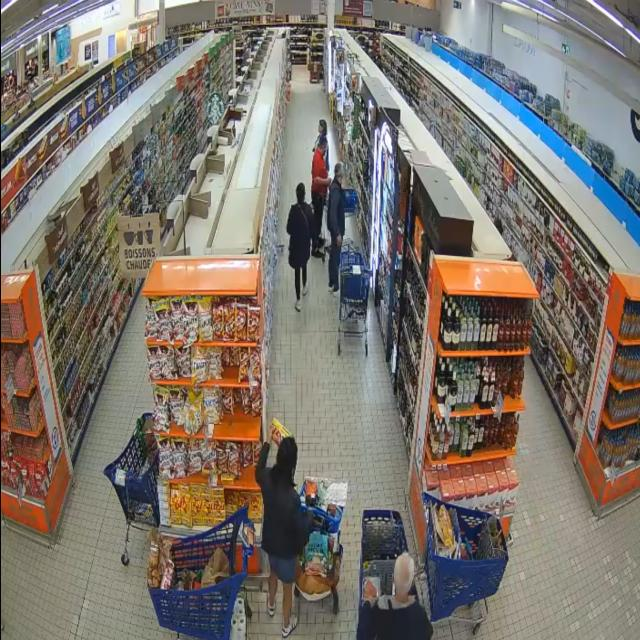article: (272, 417, 293, 446)
hands: (363, 580, 377, 604), (267, 422, 274, 443), (336, 235, 343, 248), (326, 178, 332, 185)
person: (256, 437, 312, 637), (358, 553, 433, 639), (287, 183, 314, 311), (312, 137, 331, 257), (328, 163, 344, 292), (313, 119, 328, 152)
